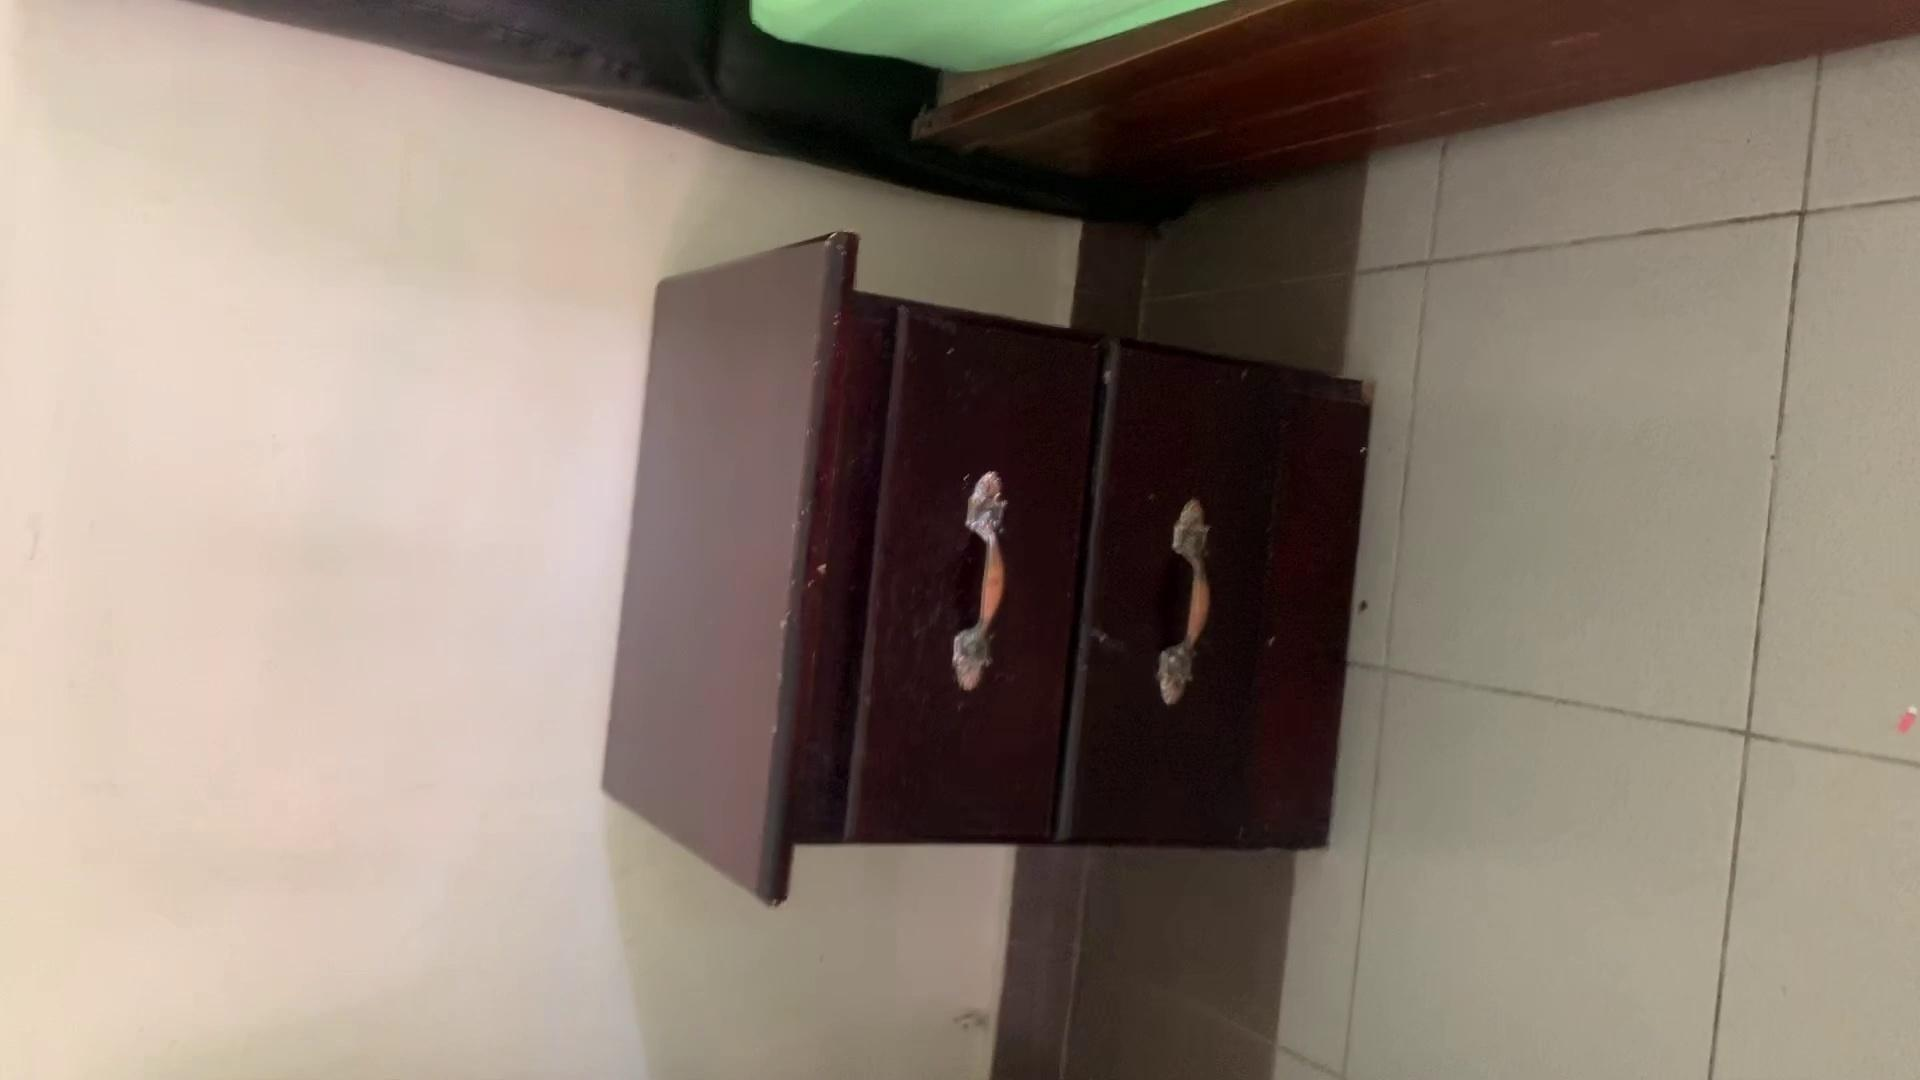cabinet_door: (1097, 377, 1348, 840), (868, 345, 1075, 840)
handle: (1138, 501, 1224, 699), (945, 483, 1027, 687)
